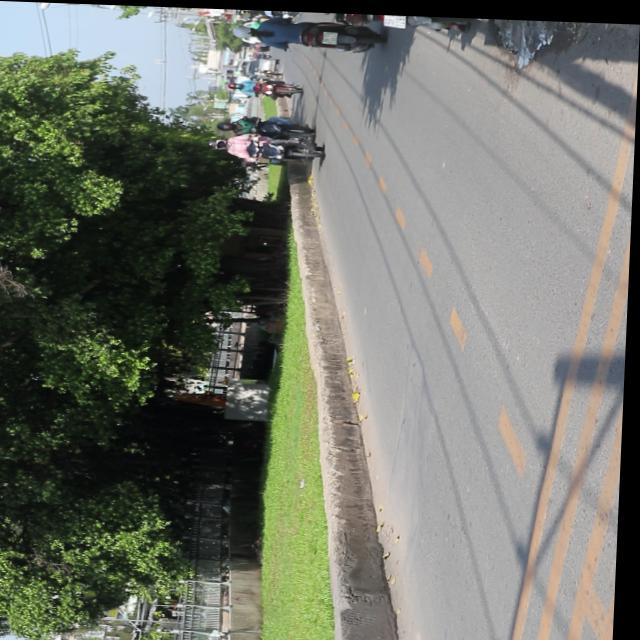nohelmet: (382, 11, 406, 25)
